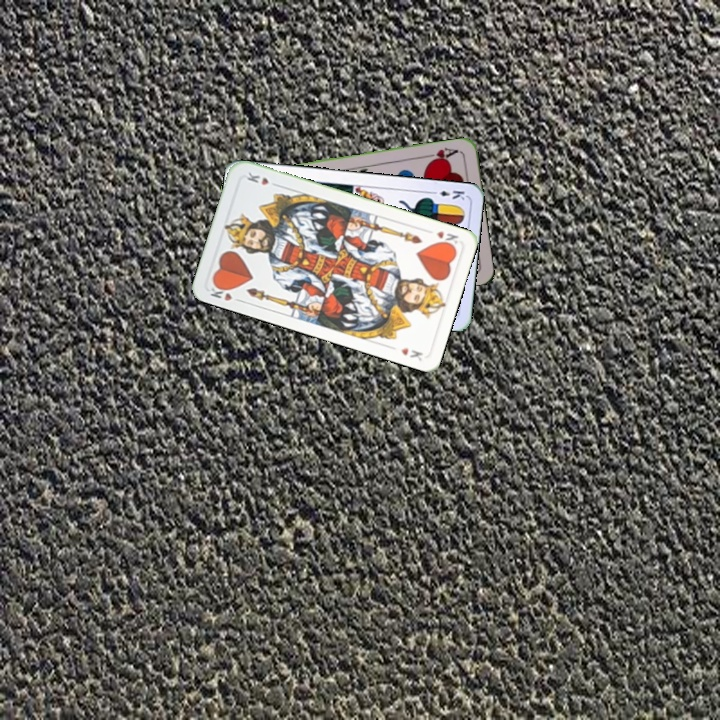EK: (427, 186, 467, 202)
HA: (421, 143, 461, 165)
HK: (206, 279, 245, 305), (433, 227, 461, 250)
